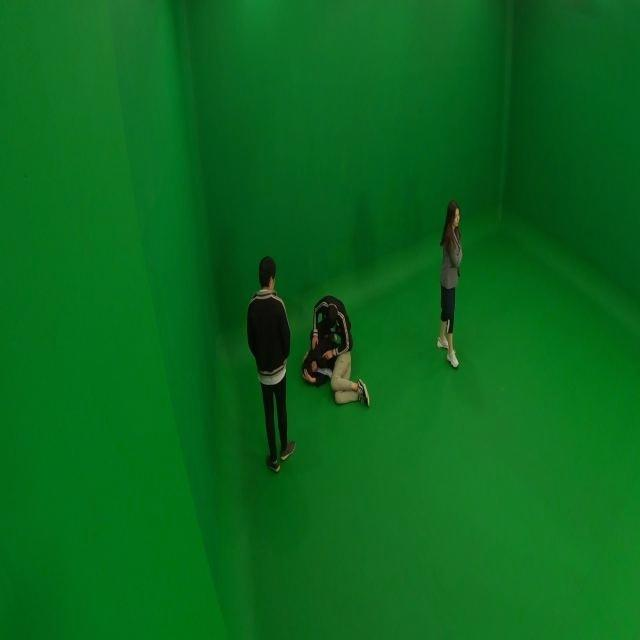non-fight: (243, 256, 300, 473), (298, 339, 376, 409), (435, 202, 466, 366), (300, 291, 372, 359)
